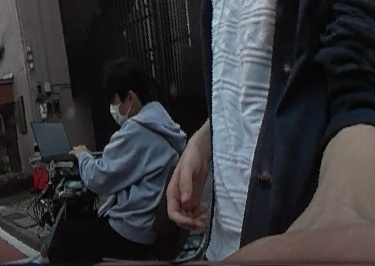person: (74, 58, 183, 266)
